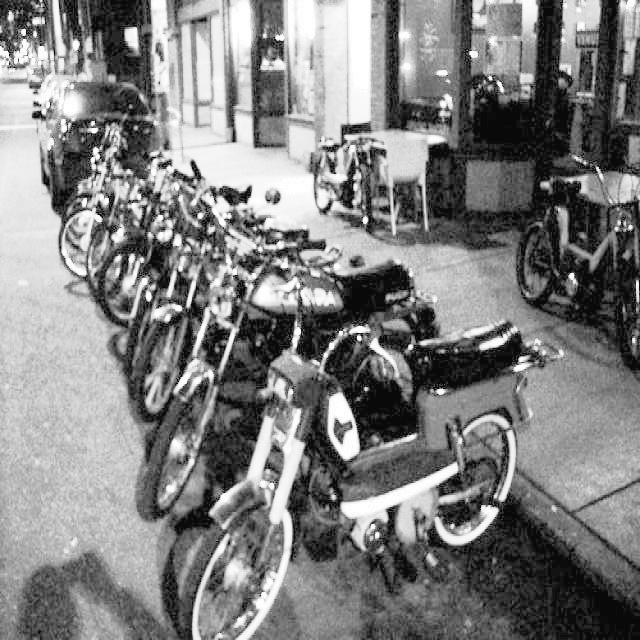Motorcycle: (174, 246, 532, 621), (136, 271, 447, 530), (118, 206, 393, 458), (523, 116, 640, 386), (305, 109, 389, 244)
